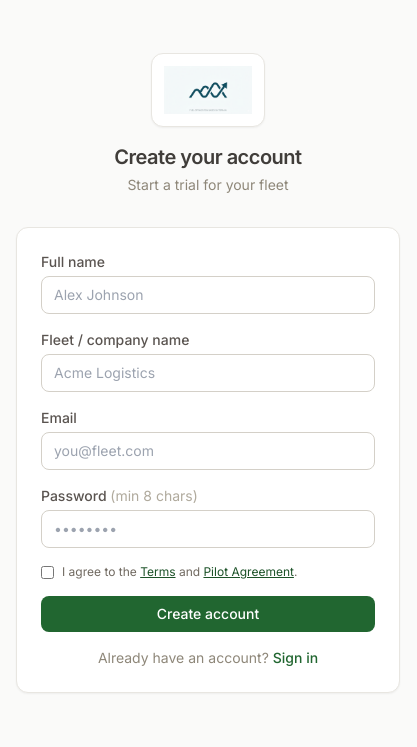
Test: Register › blocks submit until terms are accepted
Type "Jane Doe" into the field with placeholder "Alex Johnson" at (208, 295), box [41, 276, 375, 314]
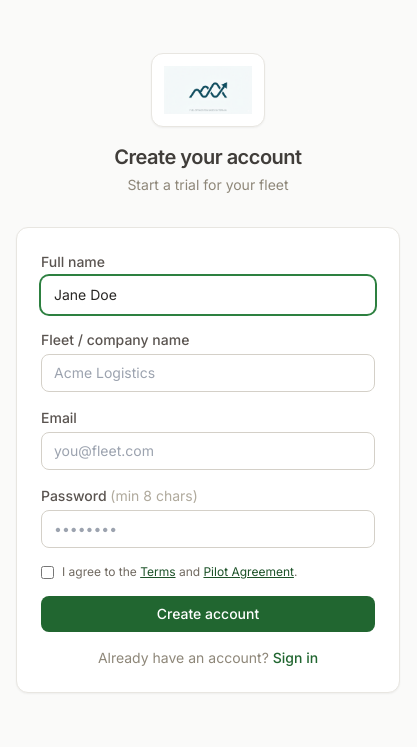
Type "Acme Fleet" into the field with placeholder "Acme Logistics" at (208, 373), box [41, 354, 375, 392]
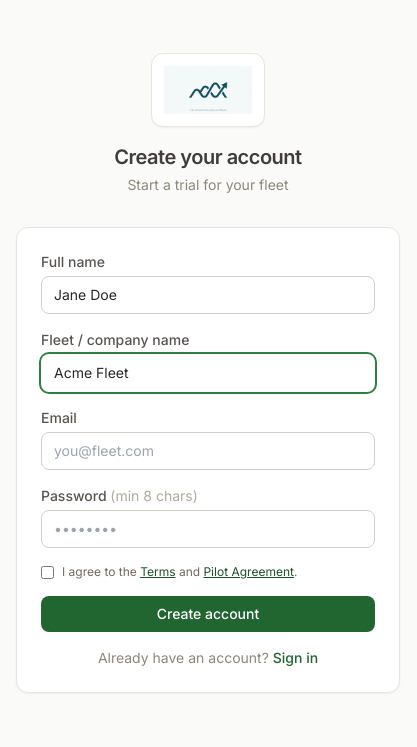
Type "jane@acme.com" into the field with placeholder "you@fleet.com" at (208, 451), box [41, 432, 375, 470]
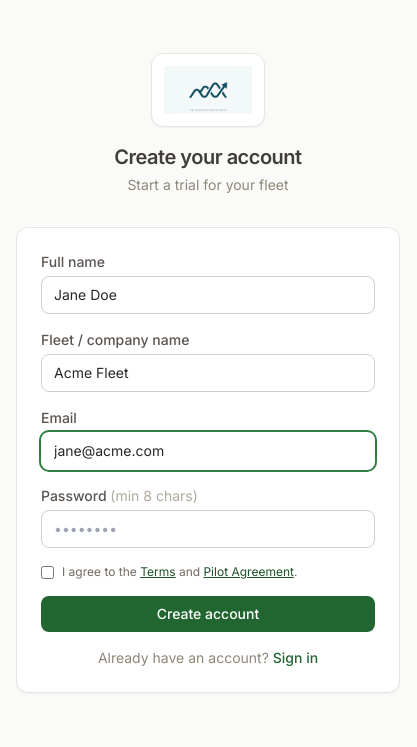
Type "password123" into the password field with placeholder "••••••••" at (208, 529), box [41, 510, 375, 548]
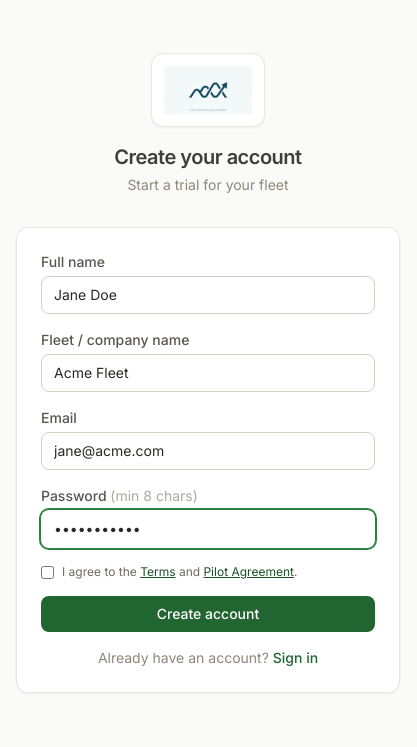
Click the button "Create account" at (208, 614), box [41, 596, 375, 632]
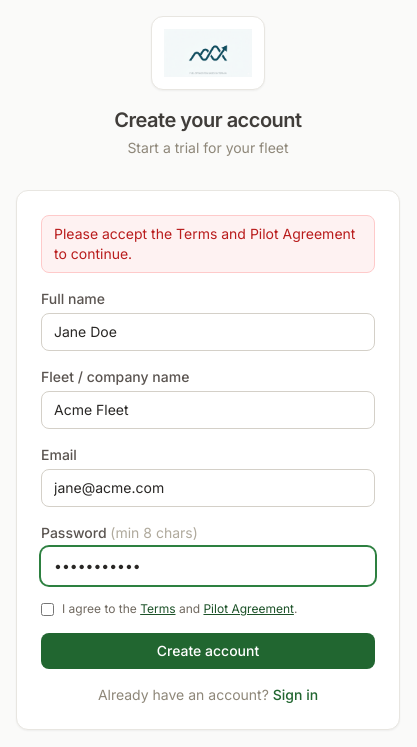
Expected: the text "Please accept the Terms and Pilot Agreement to continue." is shown, [41, 215, 375, 273]
